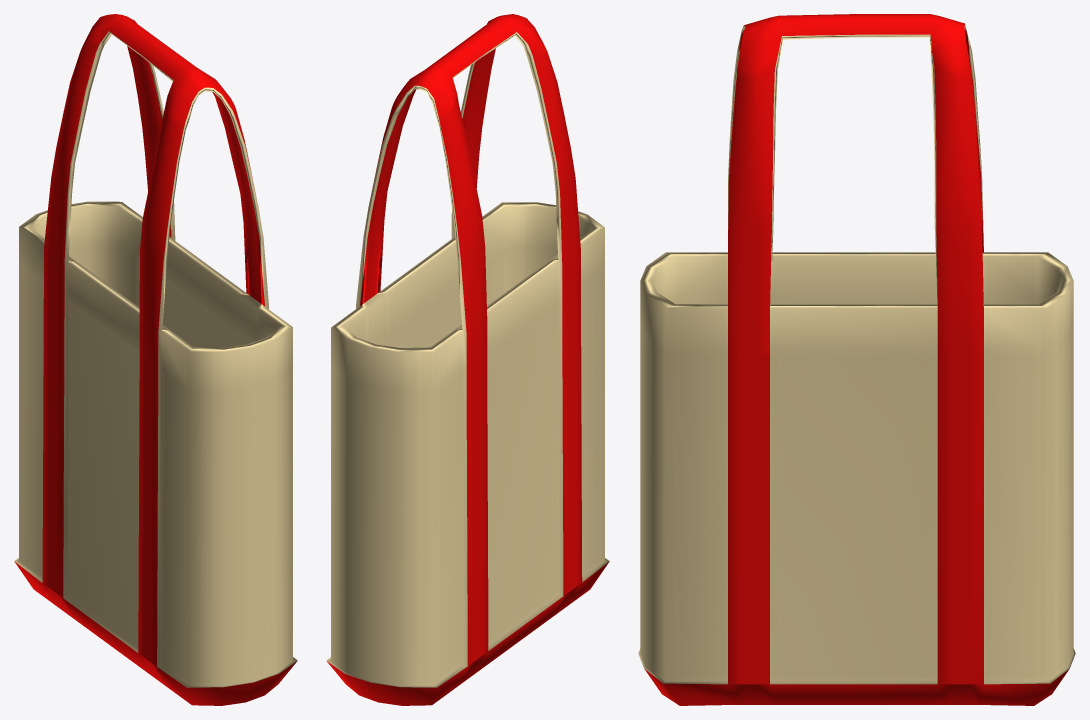
Rendered from totobag-red.fbx.
3 renders of one model, left to right at view 1: azimuth 30°, elevation 25°; view 2: azimuth 150°, elevation 25°; view 3: azimuth 270°, elevation 25°, orthographic. The views are drawn at different scales.
Parts seen in each view (by area): view 1: totobag_red; view 2: totobag_red; view 3: totobag_red.
Part boxes in pixels (left/top/right/bottom): totobag_red: left=14, top=14, right=297, bottom=705; totobag_red: left=326, top=14, right=609, bottom=705; totobag_red: left=638, top=14, right=1075, bottom=705.
Bounding box in the file's own units: 2.21 × 11.25 × 6.61.
1 material, 1 textured.
